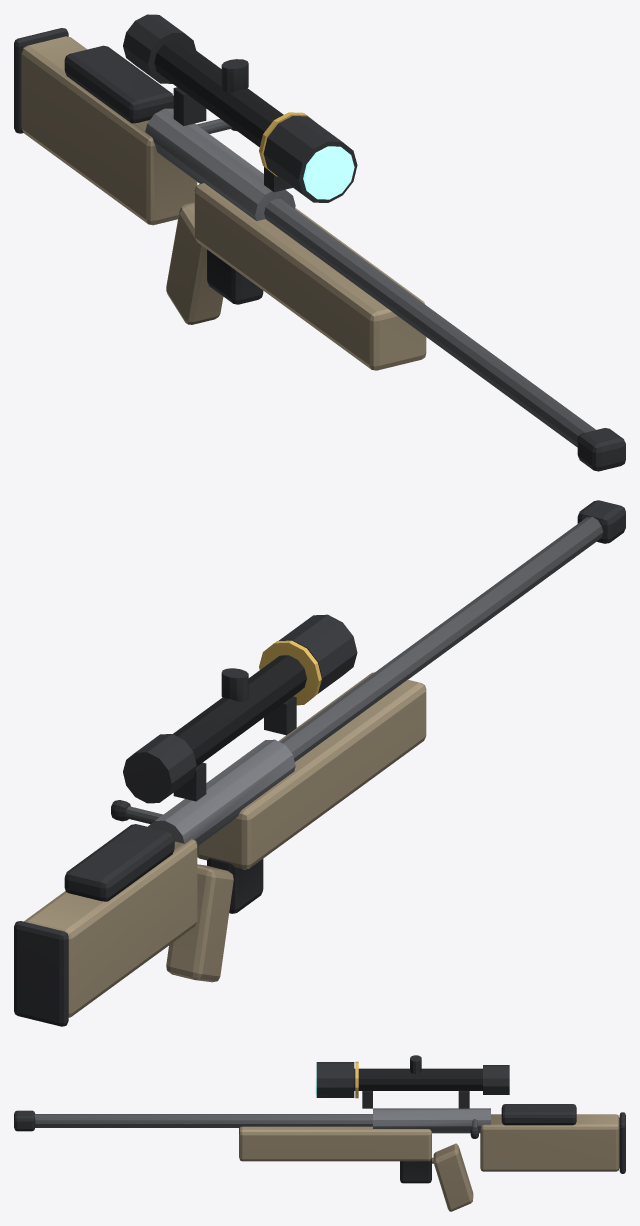
Rendered from longshot_bolt.glb.
3 views of the same model, one above another, from view 1: azimuth 30°, elevation 25°; view 2: azimuth 150°, elevation 25°; view 3: azimuth 270°, elevation 25° (orthographic). The views are drawn at different scales.
Visible parts, largest first — view 1: longshot_bolt, mag; view 2: longshot_bolt, mag; view 3: longshot_bolt, mag.
Part boxes in pixels (x1=…): longshot_bolt: x1=14, y1=14, x2=625, y2=471; mag: x1=207, y1=249, x2=263, y2=304; longshot_bolt: x1=14, y1=500, x2=625, y2=1026; mag: x1=207, y1=858, x2=263, y2=913; longshot_bolt: x1=14, y1=1055, x2=625, y2=1211; mag: x1=400, y1=1158, x2=431, y2=1183.
Bounding box in the file's own units: 0.1125 × 0.3091 × 1.14.
